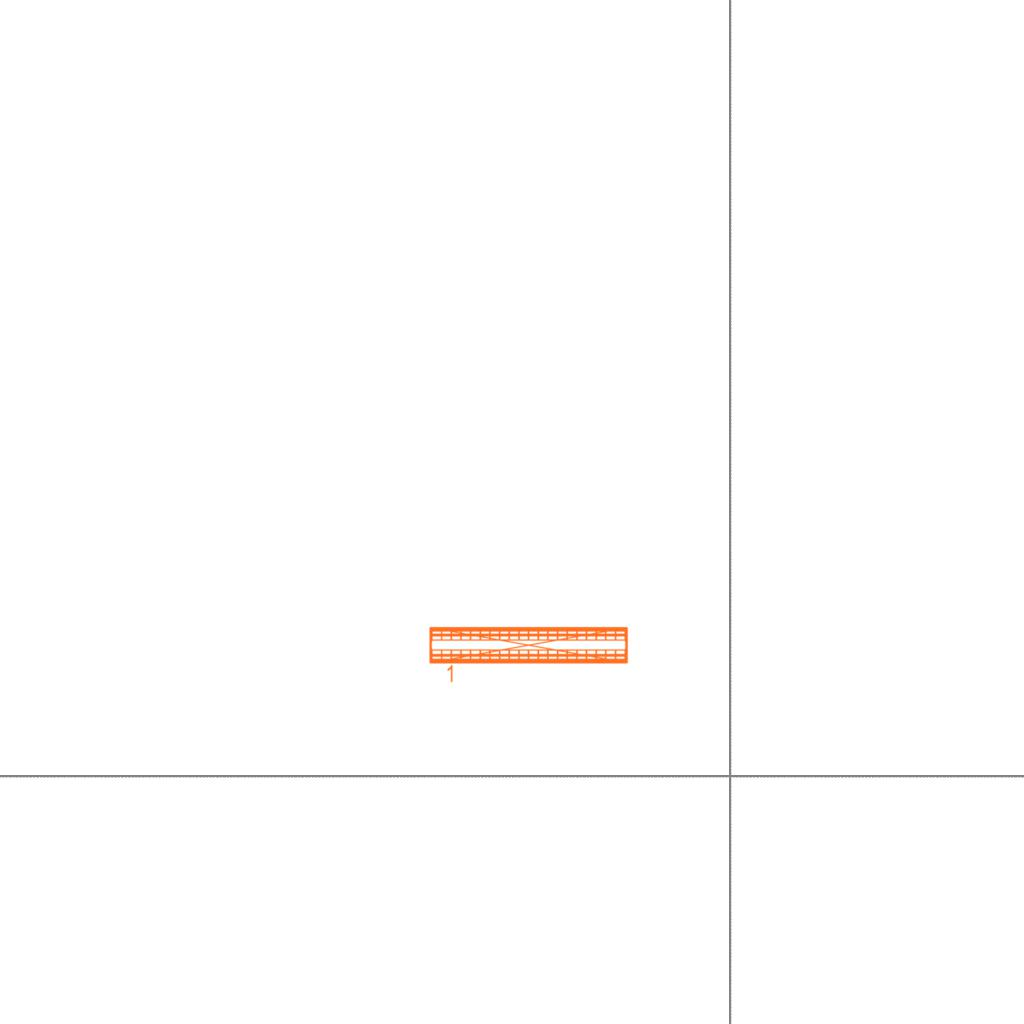Buero_Pendelleuchten_LED: (426, 622, 632, 687)
